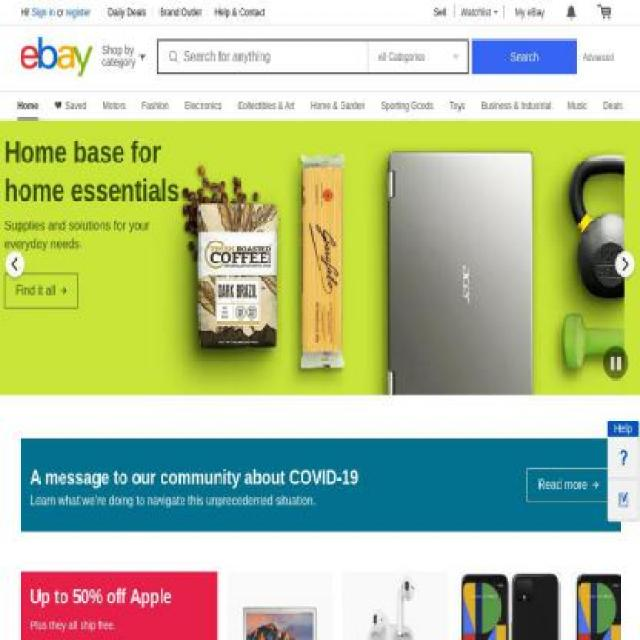button: (0, 119, 640, 396), (342, 572, 448, 639), (457, 572, 563, 639), (228, 572, 332, 639), (572, 572, 639, 639), (20, 37, 94, 77), (96, 37, 153, 72), (577, 40, 620, 74), (607, 478, 639, 520), (607, 437, 639, 478), (454, 1, 504, 22), (508, 1, 552, 22), (555, 1, 588, 22), (590, 1, 618, 22)
field: (158, 42, 364, 72), (472, 39, 577, 75), (368, 42, 468, 72)
